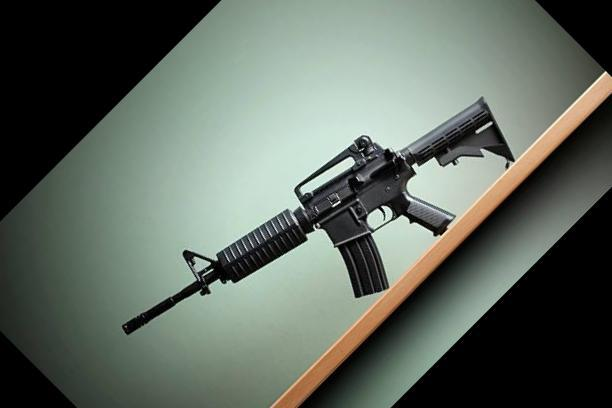larga: (121, 94, 516, 337)
